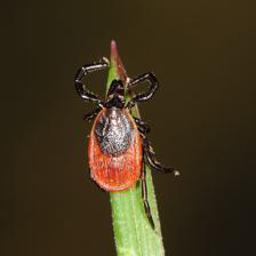Ixodes scapularis: (75, 58, 174, 231)
